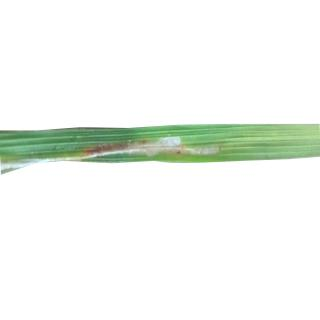Hawar-Daun: (54, 126, 224, 165)
